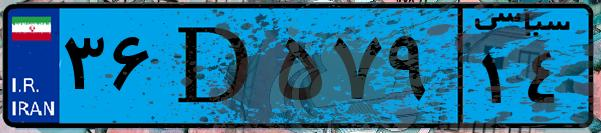1: (475, 38, 525, 113)
3: (57, 26, 110, 100)
4: (525, 38, 570, 115)
5: (270, 28, 330, 110)
6: (110, 28, 158, 98)
7: (330, 28, 385, 110)
9: (385, 28, 445, 110)
D: (158, 12, 270, 120)
